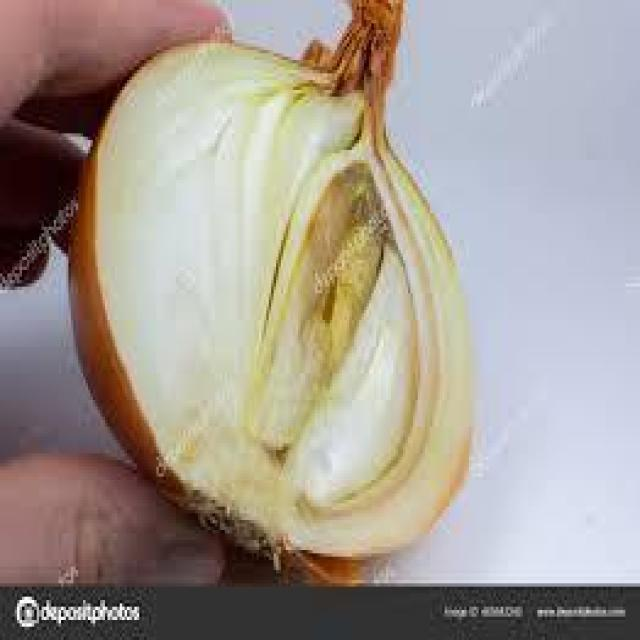Onion: (69, 0, 494, 570)
